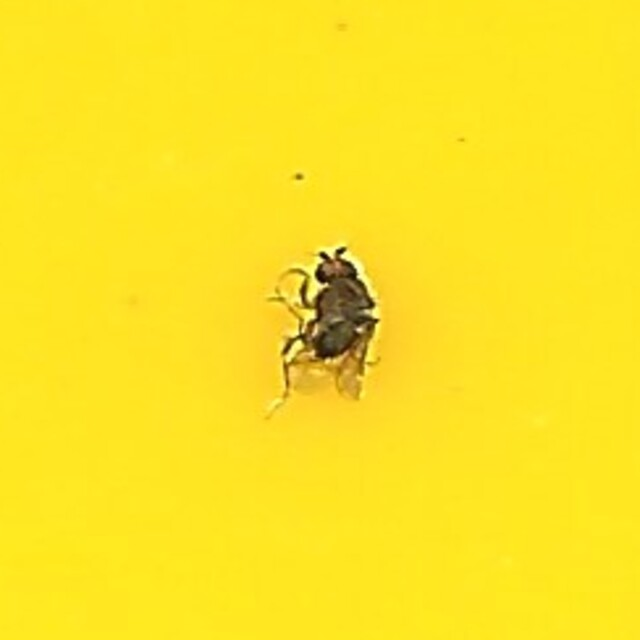Brachycera: (262, 240, 378, 400)
